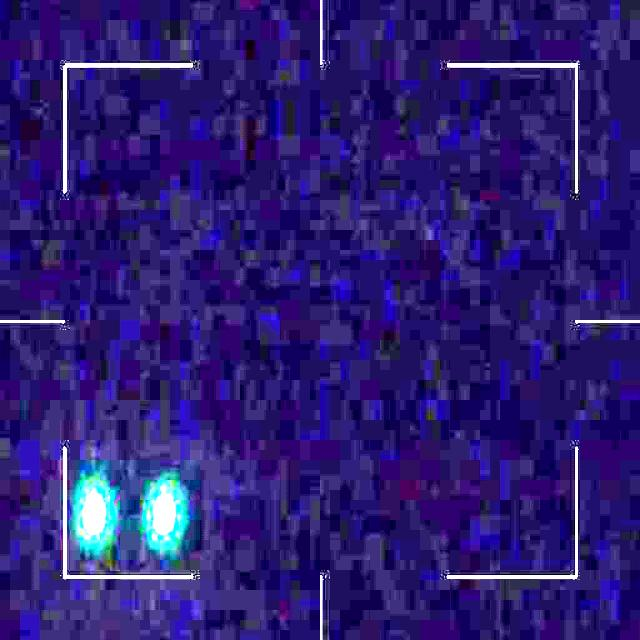bird: (79, 490, 179, 544)
